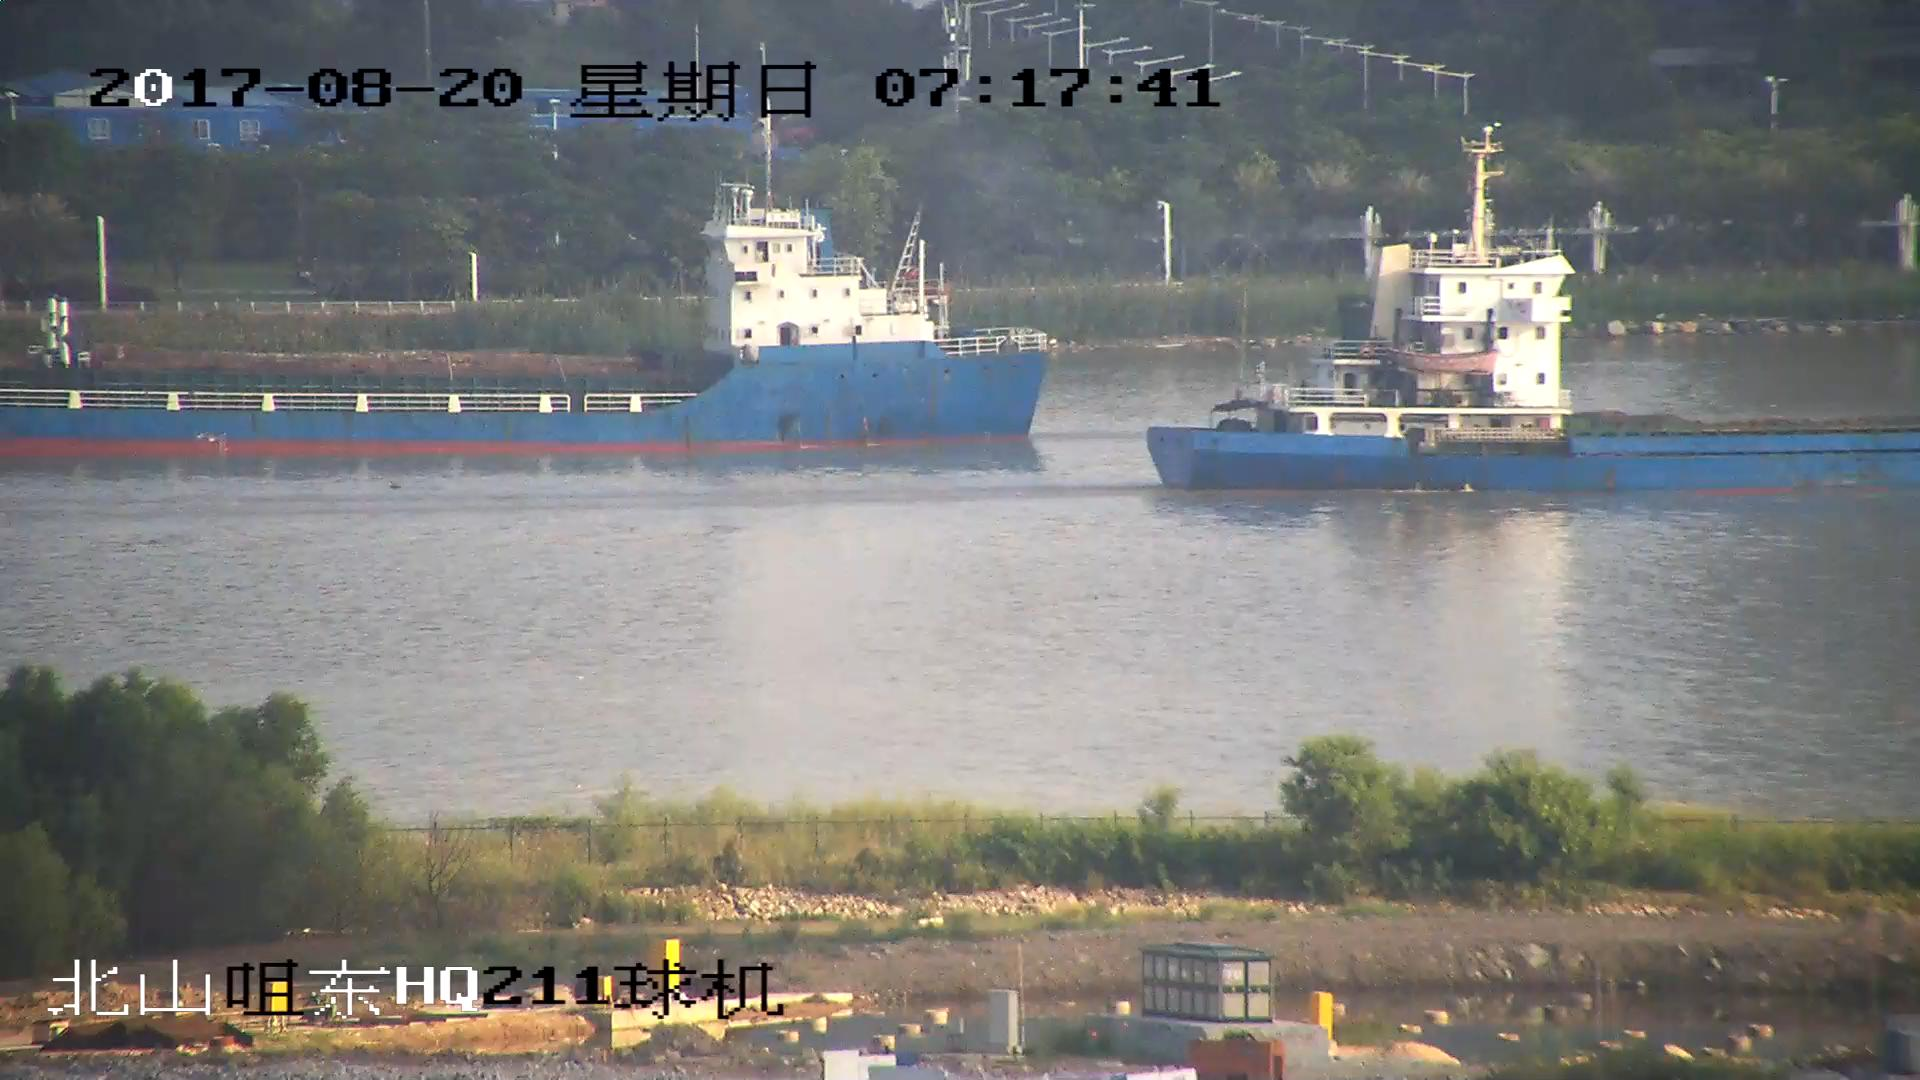general cargo ship: (1, 177, 1055, 450), (1161, 182, 1920, 489)
